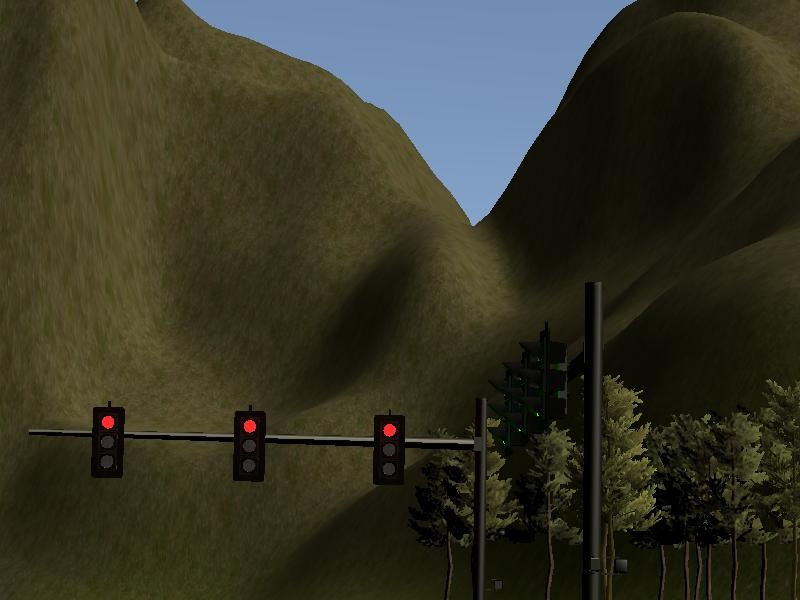RED: (91, 406, 123, 479), (232, 410, 264, 483), (372, 414, 404, 487)
